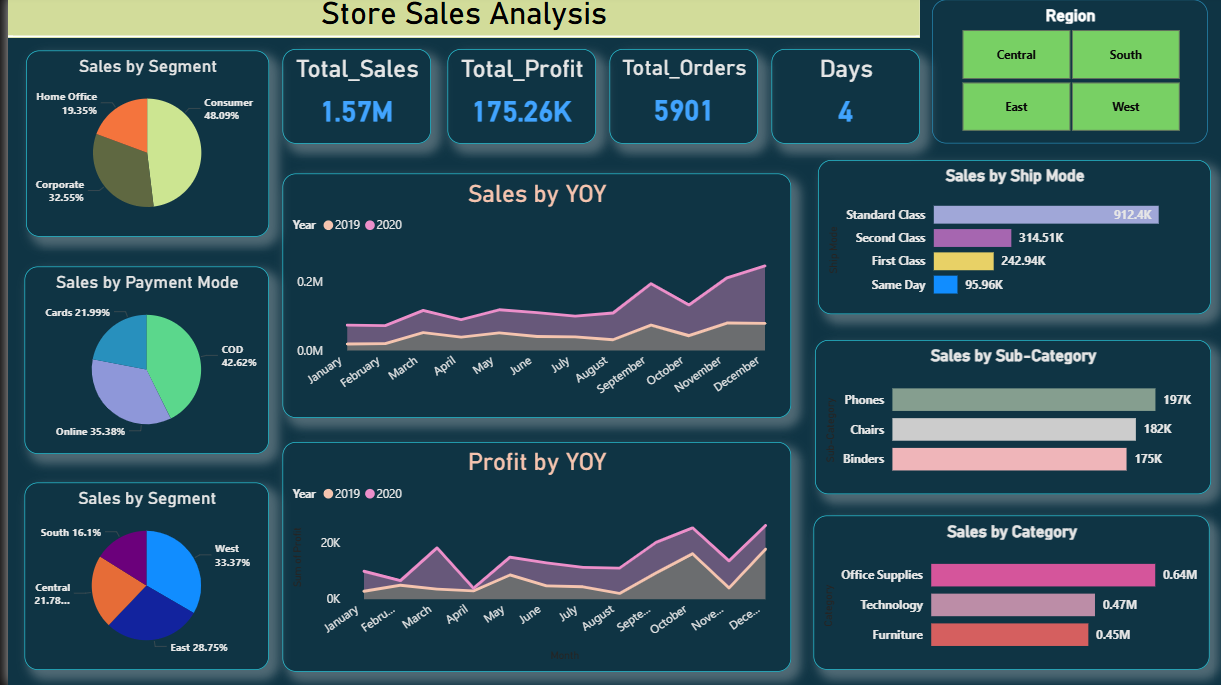

The dashboard page shown, as its layout file describes it:
{"tool":"powerbi","page":{"name":"Page 1","canvas":[1280,720],"ordinal":0},"visuals":[{"type":"card","title":"Total_Sales","fields":{"Values":["Sheet1.Total_Sales"]},"box":[286,56.3,154.7,98.5],"z":0},{"type":"card","title":"Total_Profit","fields":{"Values":["Sum(Sheet1.Profit)"]},"box":[458,56.3,154.7,98.5],"z":1000},{"type":"card","title":"Total_Orders","fields":{"Values":["Sheet1.orders"]},"box":[626.8,56.3,154.7,98.5],"z":2000},{"type":"card","title":"Days","fields":{"Values":["Avg(Sheet1.Avg_delivary_day)"]},"box":[795.6,56.3,154.7,98.5],"z":3000},{"type":"stackedAreaChart","title":" Sales by YOY","fields":{"Y":["Sum(Sheet1.Sales)"],"Category":["Sheet1.Order Date.Variation.Date Hierarchy.Month","Sheet1.Order Date.Variation.Date Hierarchy.Day"],"Series":["Sheet1.Order Date.Variation.Date Hierarchy.Year"]},"box":[286,186,529.9,254.8],"z":4000},{"type":"stackedAreaChart","title":"Profit by YOY","fields":{"Category":["Sheet1.Order Date.Variation.Date Hierarchy.Month","Sheet1.Order Date.Variation.Date Hierarchy.Day"],"Series":["Sheet1.Order Date.Variation.Date Hierarchy.Year"],"Y":["Sum(Sheet1.Profit)"]},"box":[286,465.8,529.9,239.1],"z":5000},{"type":"barChart","title":"Sales by Ship Mode","fields":{"Category":["Sheet1.Ship Mode"],"Y":["Sheet1.Total_Sales"]},"box":[844,171.9,409.5,161],"z":6000},{"type":"barChart","title":"Sales by Sub-Category","fields":{"Y":["Sheet1.Total_Sales"],"Category":["Sheet1.Sub-Category"]},"box":[840.9,359.5,412.6,161],"z":7000},{"type":"barChart","title":"Sales by Category","fields":{"Category":["Sheet1.Category"],"Y":["Sheet1.Total_Sales"]},"box":[839.3,542.4,412.6,161],"z":8000},{"type":"pieChart","title":" Sales by Segment","fields":{"Y":["Sum(Sheet1.Sales)"],"Category":["Sheet1.Segment"]},"box":[18.8,57.8,253.2,193.8],"z":9000},{"type":"pieChart","title":" Sales by Payment Mode","fields":{"Y":["Sum(Sheet1.Sales)"],"Category":["Sheet1.Payment Mode"]},"box":[17.2,282.9,254.8,195.4],"z":10000},{"type":"pieChart","title":" Sales by Segment","fields":{"Y":["Sum(Sheet1.Sales)"],"Category":["Sheet1.Region"]},"box":[17.2,508,254.8,195.4],"z":11000},{"type":"textbox","title":"Store Sales Analysis","box":[0,0,950.3,43.8],"z":12000},{"type":"slicer","title":"Region","fields":{"Values":["Sheet1.Region"]},"box":[962.8,4.7,287.6,150],"z":13000}]}

Visuals, with their boxes in screenshot pixels (x1, y1, x2, y2), scaled from the page's 1280x720 canvas onto the 1221x685 screenshot:
"Total_Sales" card: (left=273, top=54, right=420, bottom=147)
"Total_Profit" card: (left=437, top=54, right=584, bottom=147)
"Total_Orders" card: (left=598, top=54, right=745, bottom=147)
"Days" card: (left=759, top=54, right=906, bottom=147)
" Sales by YOY" stackedAreaChart: (left=273, top=177, right=778, bottom=419)
"Profit by YOY" stackedAreaChart: (left=273, top=443, right=778, bottom=671)
"Sales by Ship Mode" barChart: (left=805, top=164, right=1196, bottom=317)
"Sales by Sub-Category" barChart: (left=802, top=342, right=1196, bottom=495)
"Sales by Category" barChart: (left=801, top=516, right=1194, bottom=669)
" Sales by Segment" pieChart: (left=18, top=55, right=259, bottom=239)
" Sales by Payment Mode" pieChart: (left=16, top=269, right=259, bottom=455)
" Sales by Segment" pieChart: (left=16, top=483, right=259, bottom=669)
"Store Sales Analysis" textbox: (left=0, top=0, right=906, bottom=42)
"Region" slicer: (left=918, top=4, right=1193, bottom=147)
